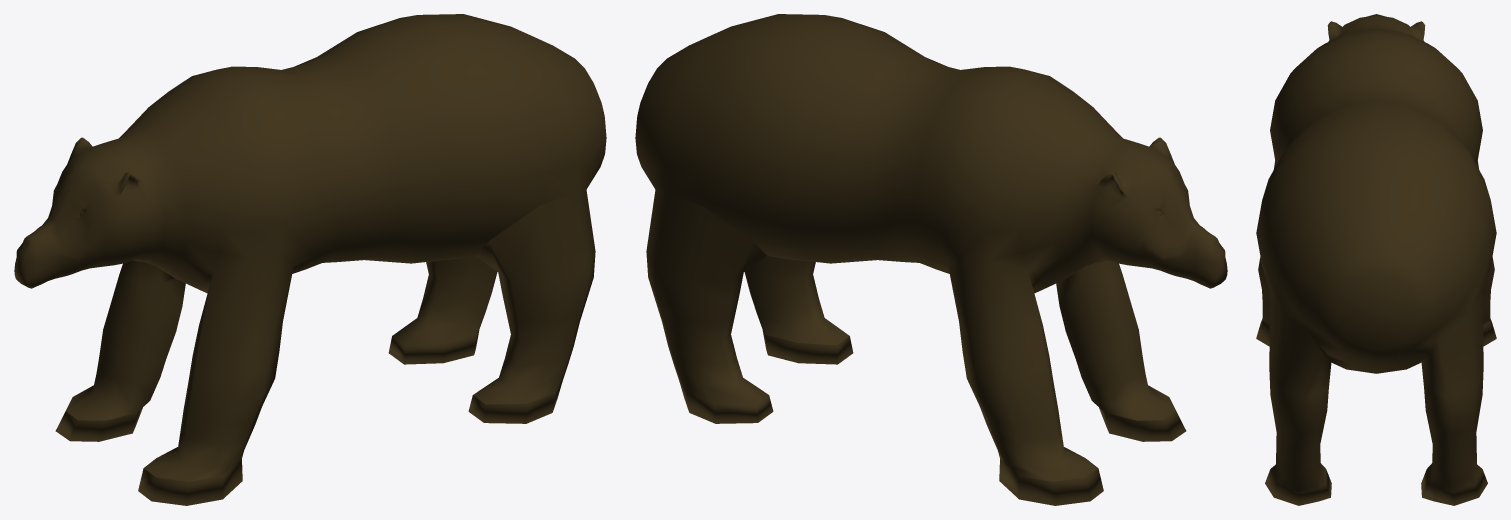
Rendered from Bear.fbx.
3 renders of one model, left to right at view 1: azimuth 30°, elevation 25°; view 2: azimuth 150°, elevation 25°; view 3: azimuth 270°, elevation 25°, orthographic. The views are drawn at different scales.
Parts seen in each view (by area): view 1: TheBear; view 2: TheBear; view 3: TheBear.
Boxes of the visible parts, x1,y1,x2,y2 form: TheBear: (14, 14, 606, 505); TheBear: (635, 14, 1227, 505); TheBear: (1256, 14, 1496, 505).
Size of the model in its own units: 6.06 by 3.68 by 2.34.
